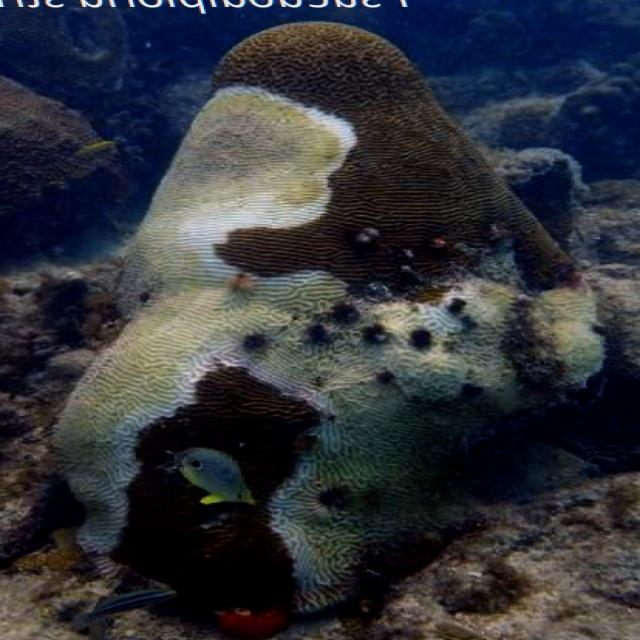Coral: (53, 20, 606, 614)
